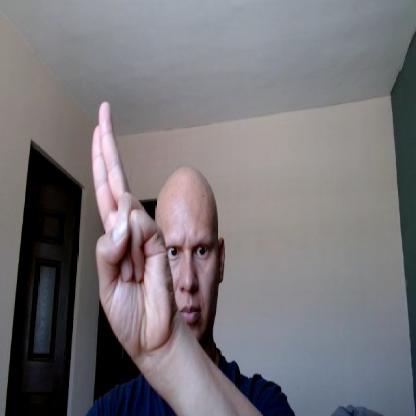U: (91, 98, 174, 353)
